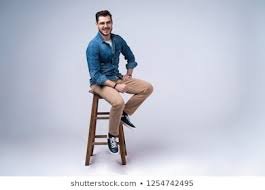sitting: (81, 8, 157, 169)
